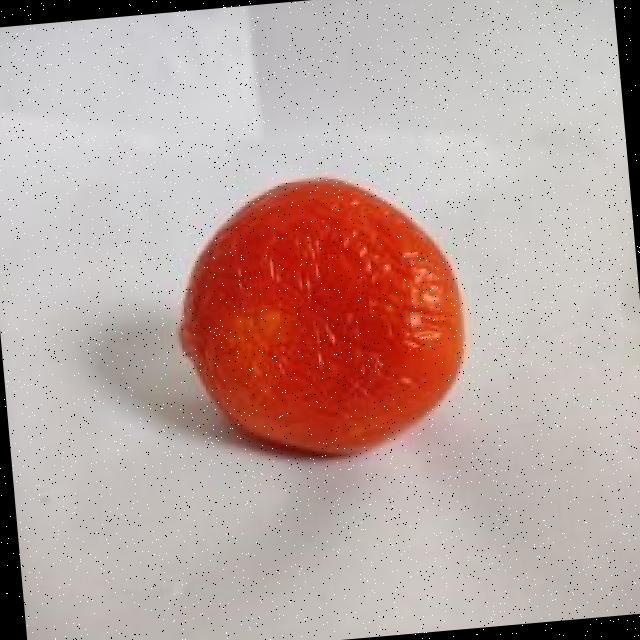overripe: (164, 168, 471, 470)
